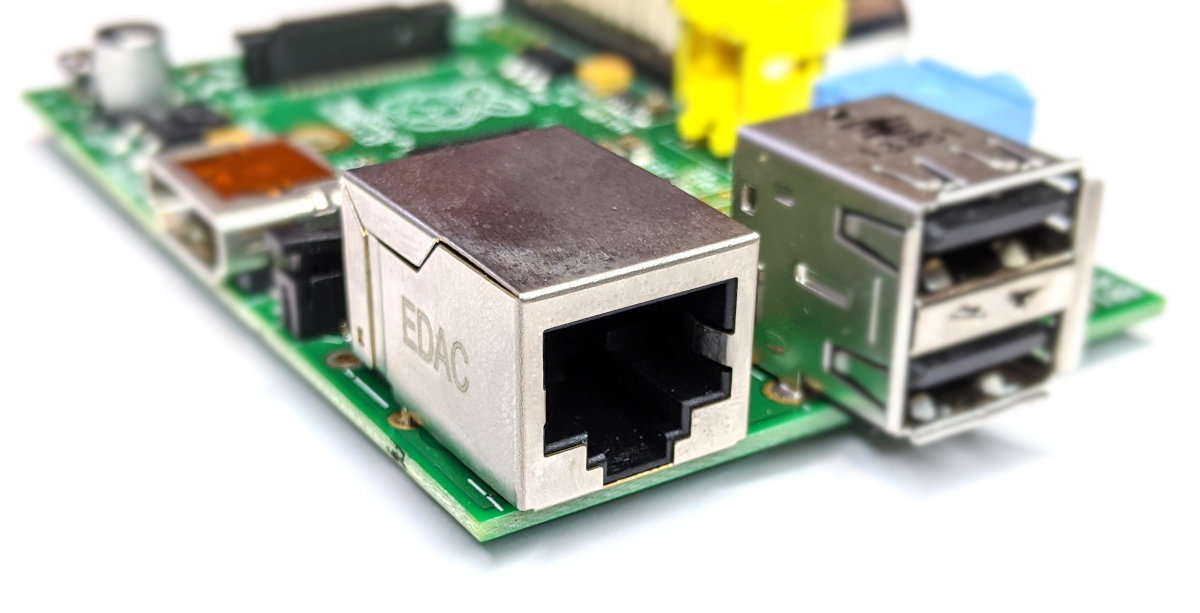Ethernet: (519, 270, 763, 498)
